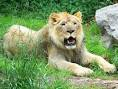lion: (7, 12, 118, 78)
